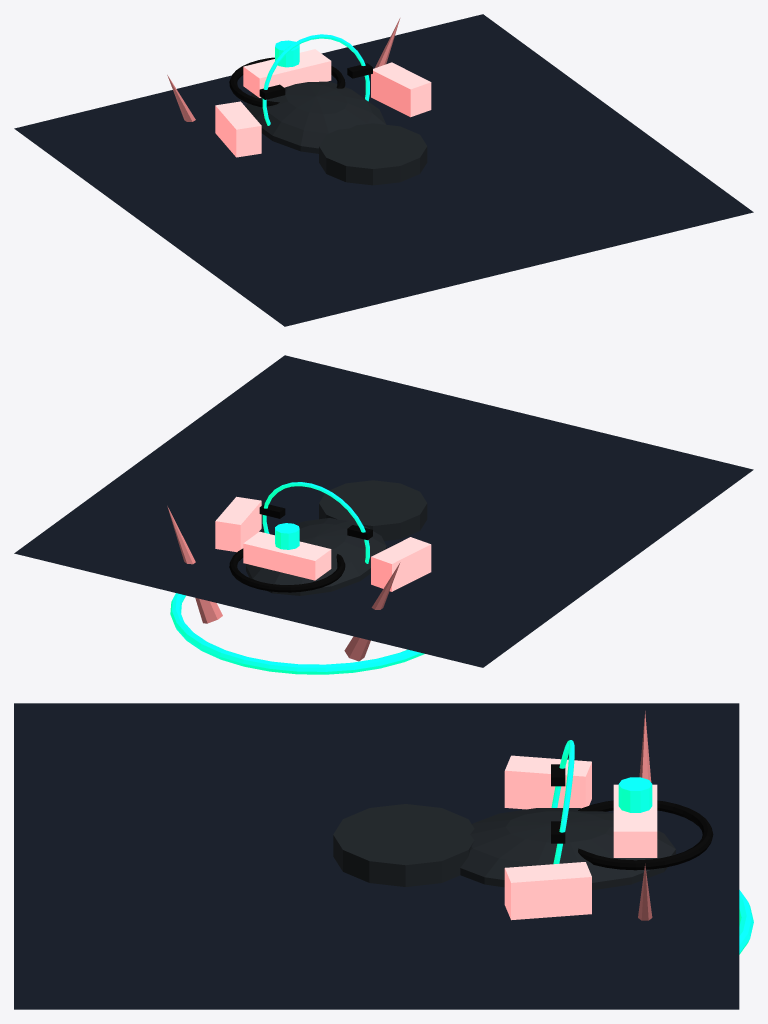
File: avatar_mnd_makoto.glb
3 views of the same model, one above another, from view 1: azimuth 30°, elevation 25°; view 2: azimuth 150°, elevation 25°; view 3: azimuth 270°, elevation 25° (orthographic). The views are drawn at different scales.
Parts seen in each view (by area): view 1: SOL, MASQUE, SOCLE, JOUE_D, FRONT, JOUE_G, LISERE, ANNEAU_KANJI; view 2: SOL, SOCLE, MASQUE, ANNEAU_MND, FRONT, JOUE_G, JOUE_D, ANNEAU_KANJI, SIG_LAME_D, LISERE, SIG_LAME_G, POINT_MND; view 3: SOL, SOCLE, MASQUE, JOUE_D, JOUE_G, ANNEAU_KANJI, FRONT, POINT_MND, LISERE, ANNEAU_MND.
Part boxes in pixels (x1,y1,x2,y2): SOL: (14, 14, 753, 326); MASQUE: (246, 81, 386, 153); SOCLE: (319, 123, 427, 185); JOUE_D: (371, 62, 431, 117); FRONT: (243, 49, 331, 97); JOUE_G: (215, 101, 261, 157); LISERE: (262, 34, 369, 125); ANNEAU_KANJI: (229, 57, 345, 107); SOL: (14, 355, 753, 667); SOCLE: (319, 480, 427, 540); MASQUE: (246, 518, 386, 595); ANNEAU_MND: (170, 593, 424, 674); FRONT: (243, 531, 331, 580); JOUE_G: (371, 537, 431, 591); JOUE_D: (215, 496, 261, 552); ANNEAU_KANJI: (229, 548, 345, 592); SIG_LAME_D: (167, 506, 222, 623); LISERE: (262, 482, 369, 563); SIG_LAME_G: (344, 562, 400, 661); POINT_MND: (275, 523, 299, 549); SOL: (14, 703, 739, 1009); SOCLE: (333, 804, 474, 886); MASQUE: (460, 808, 675, 890); JOUE_D: (504, 862, 591, 920); JOUE_G: (504, 755, 591, 809); ANNEAU_KANJI: (578, 800, 713, 870); FRONT: (613, 784, 657, 857); POINT_MND: (618, 777, 652, 812); LISERE: (551, 740, 574, 864); ANNEAU_MND: (739, 890, 753, 954).
Bounding box in the file's own units: 6 × 1.67 × 6.12.
